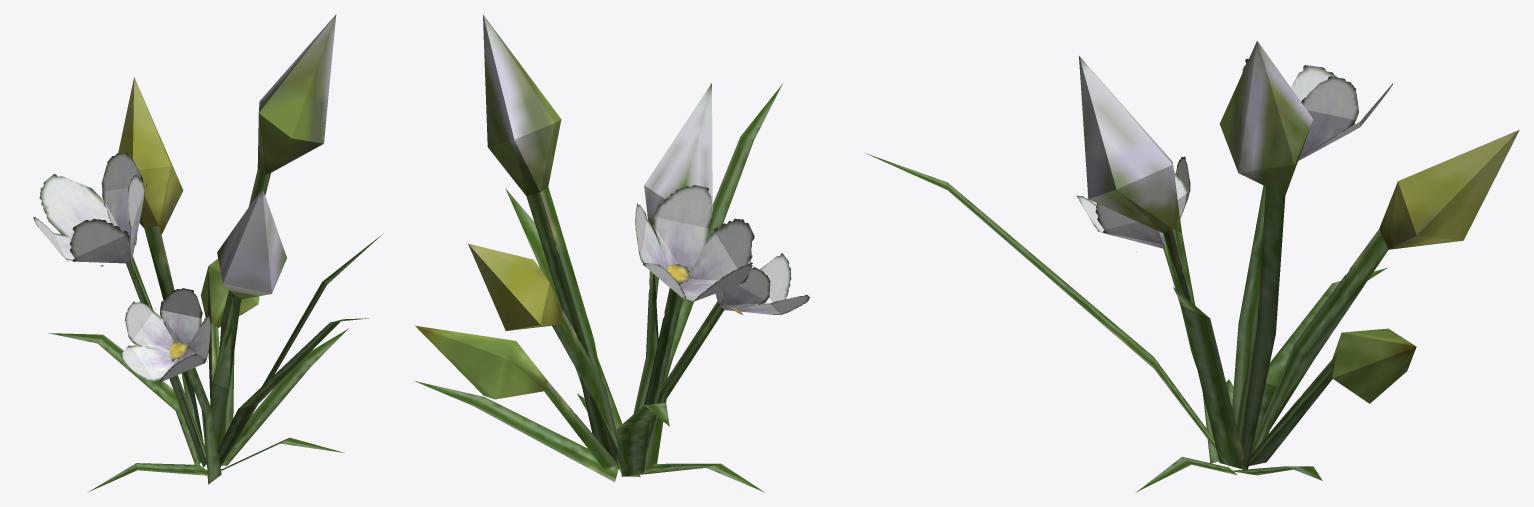
The model's file is C1SNCROCUS.obj.
3 renders of one model, left to right at view 1: azimuth 30°, elevation 25°; view 2: azimuth 150°, elevation 25°; view 3: azimuth 270°, elevation 25°, orthographic. The views are drawn at different scales.
Parts seen in each view (by area): view 1: Node 0; view 2: Node 0; view 3: Node 0.
Boxes of the visible parts, x1=… form: Node 0: x1=33, y1=14, x2=383, y2=491; Node 0: x1=414, y1=14, x2=809, y2=492; Node 0: x1=865, y1=41, x2=1519, y2=492.
Size of the model in its own units: 0.5 by 0.6 by 0.7.
Materials: 1 (1 with a texture image).
